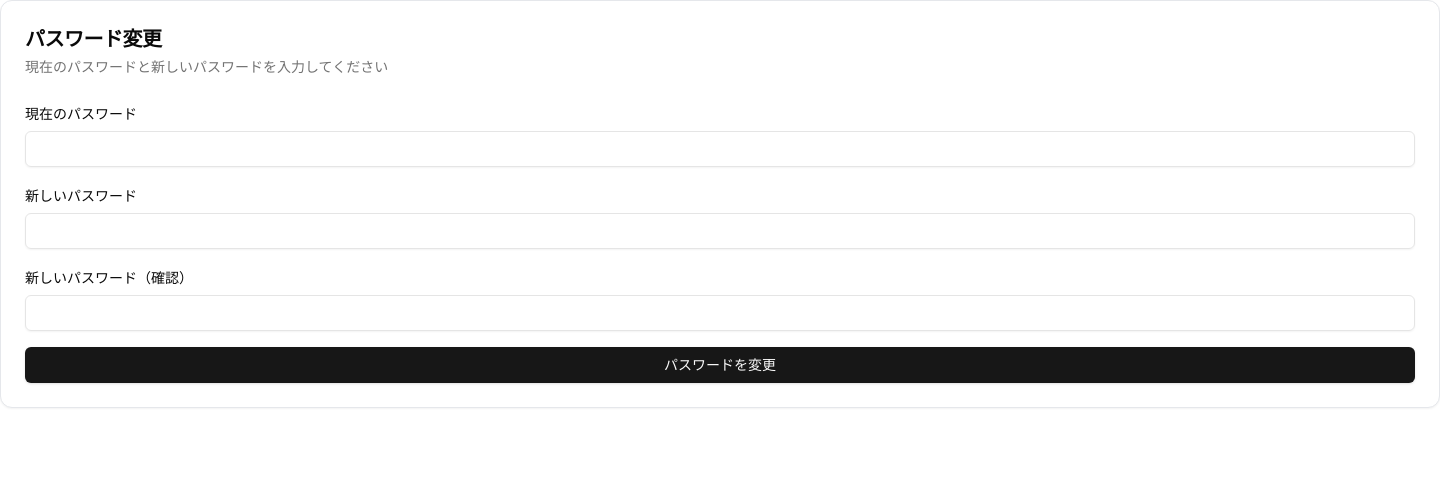
Test: ChangePasswordForm › 成功時にサクセスメッセージが表示される
Type "CurrentP1" into the password field labelled "現在のパスワード" at (720, 149), box [25,131,1415,167]
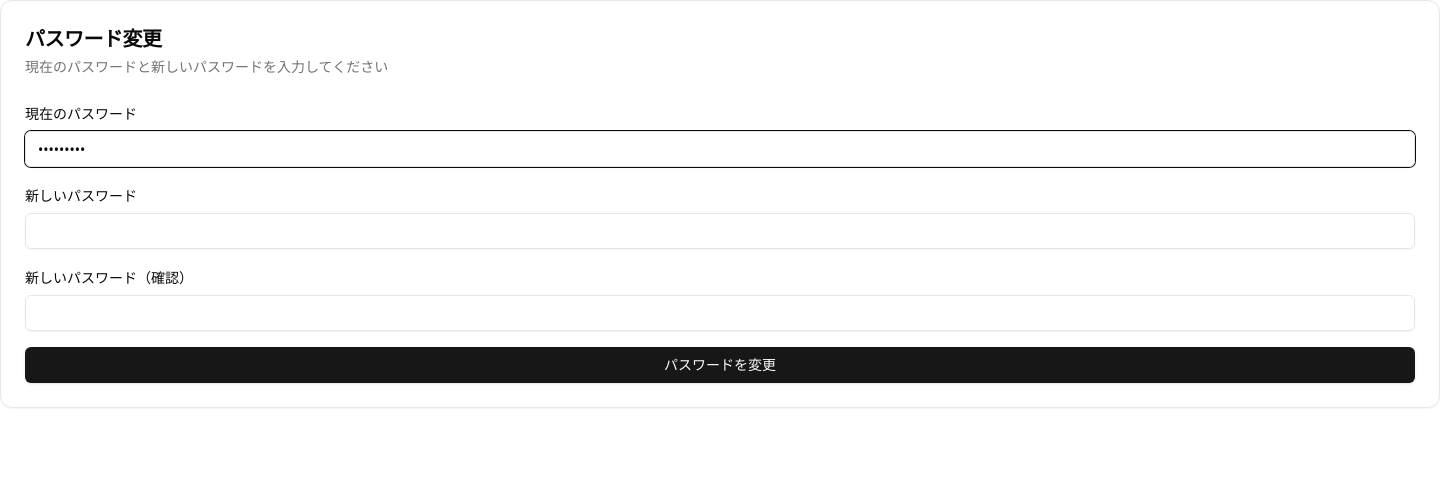
Type "NewPass12" into the password field labelled "新しいパスワード" at (720, 231), box [25,213,1415,249]
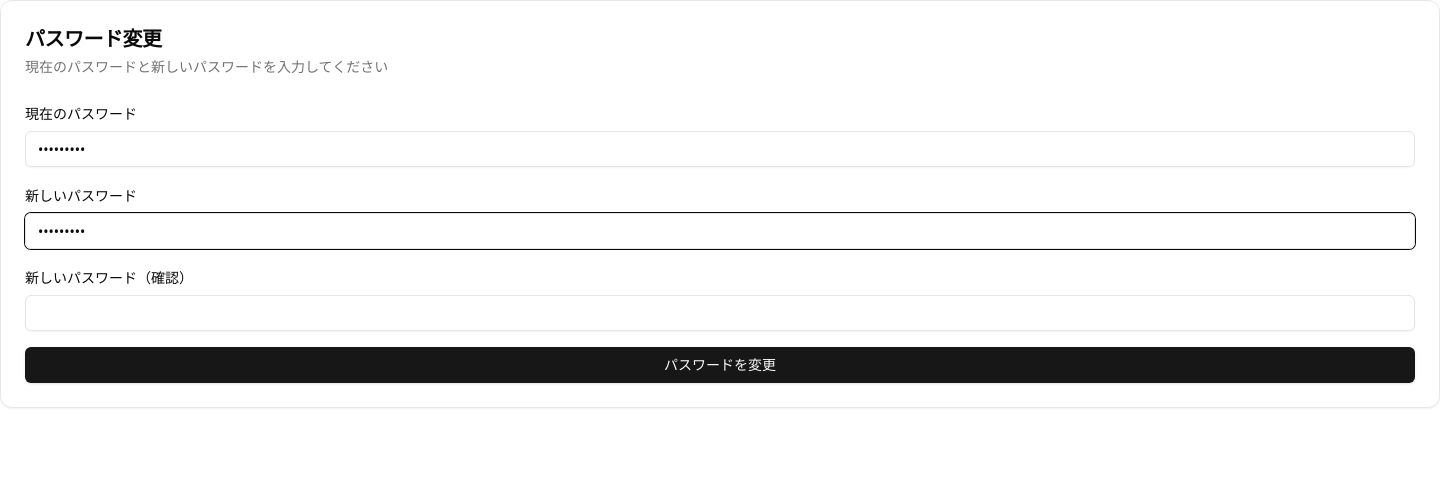
Type "NewPass12" into the password field labelled "新しいパスワード（確認）" at (720, 313), box [25,295,1415,331]
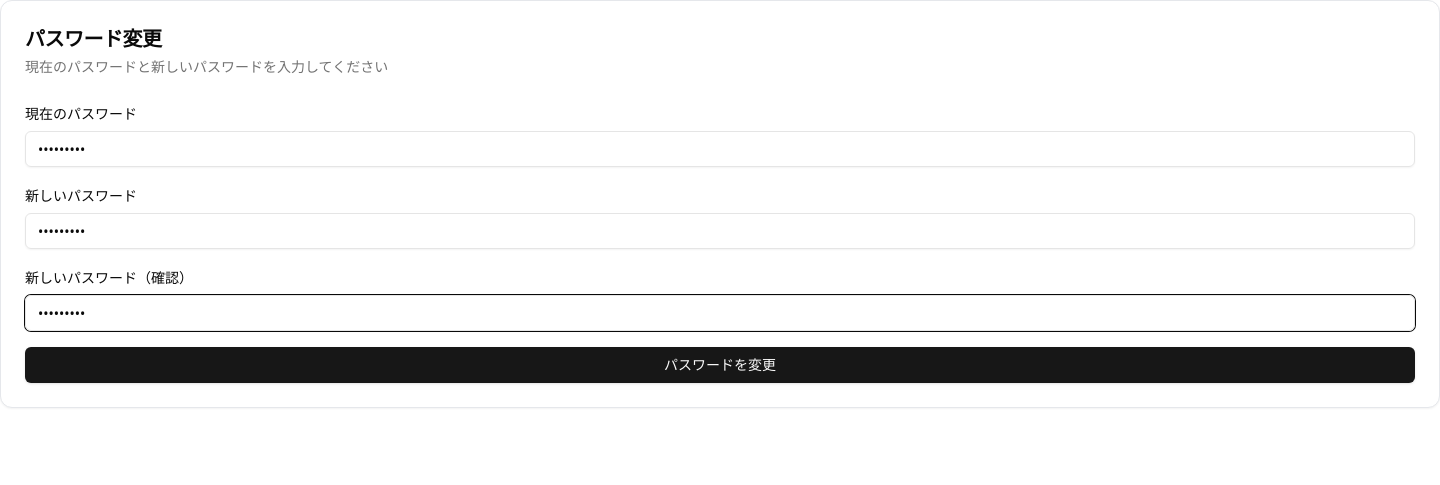
Click the button "パスワードを変更" at (720, 365), box [25,347,1415,383]
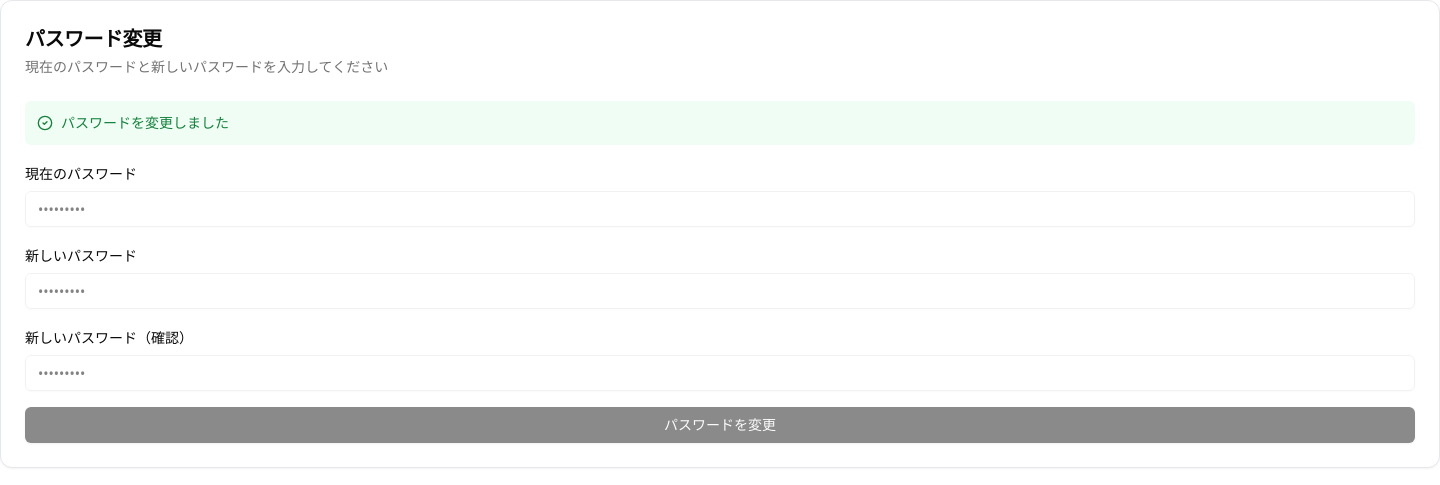
Expected: the text "パスワードを変更しました" is shown, [61,113,229,133]
